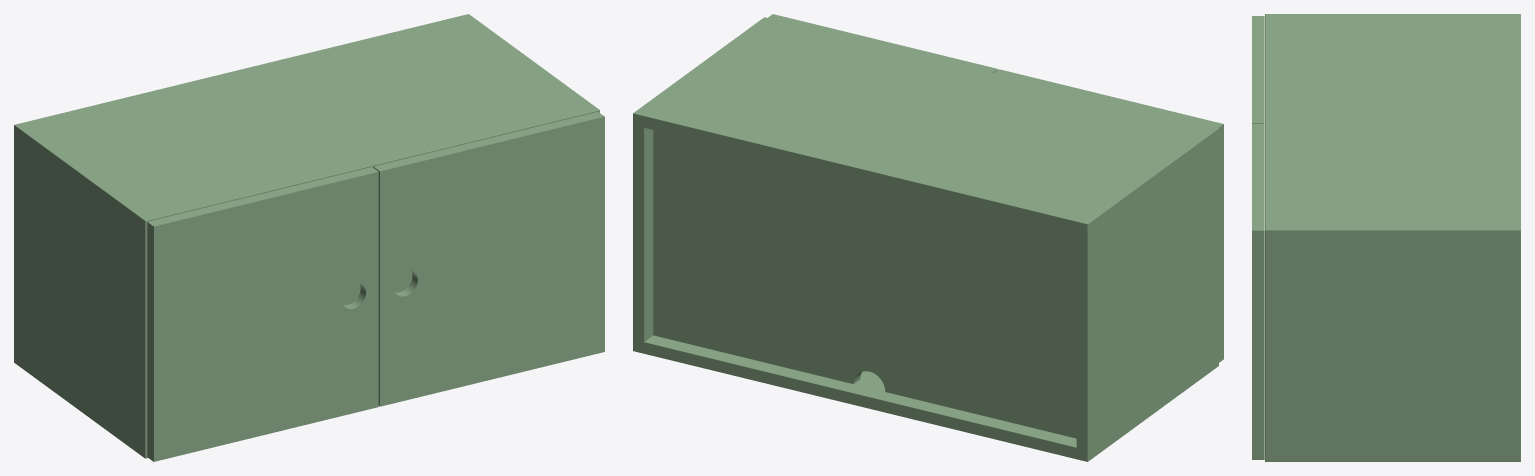
Rendered from MOD-2X1-D-B-AP-SA.glb.
The picture shows the model from 3 angles, left to right: view 1: azimuth 30°, elevation 25°; view 2: azimuth 150°, elevation 25°; view 3: azimuth 270°, elevation 25°; orthographic projection. The views are drawn at different scales.
Bounding box in the file's own units: 720 × 360 × 378.
